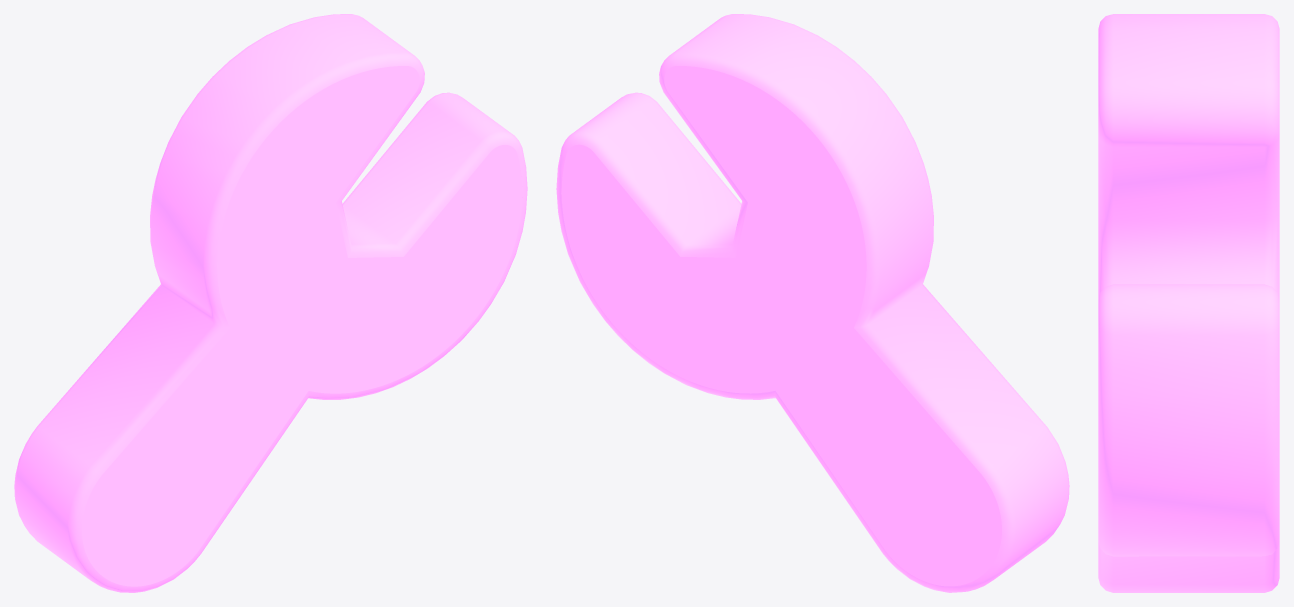
The model's file is wrench_pickup.glb.
3 renders of one model, left to right at view 1: azimuth 30°, elevation 25°; view 2: azimuth 150°, elevation 25°; view 3: azimuth 270°, elevation 25°, orthographic. The views are drawn at different scales.
Parts seen in each view (by area): view 1: WrenchPickup; view 2: WrenchPickup; view 3: WrenchPickup.
Boxes of the visible parts, bbox=[...] form: WrenchPickup: bbox=[14, 14, 527, 592]; WrenchPickup: bbox=[556, 14, 1069, 592]; WrenchPickup: bbox=[1098, 14, 1279, 592].
Size of the model in its own units: 2 by 2 by 0.4713.
